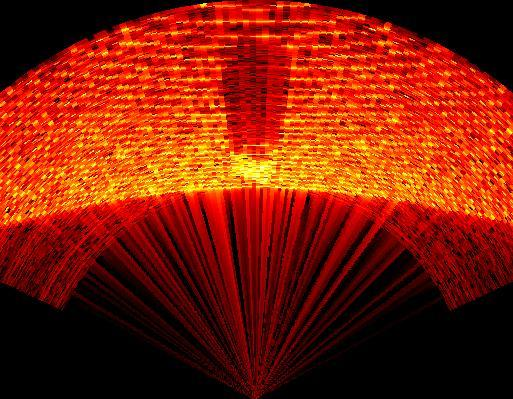box_crate: (218, 26, 292, 155)
